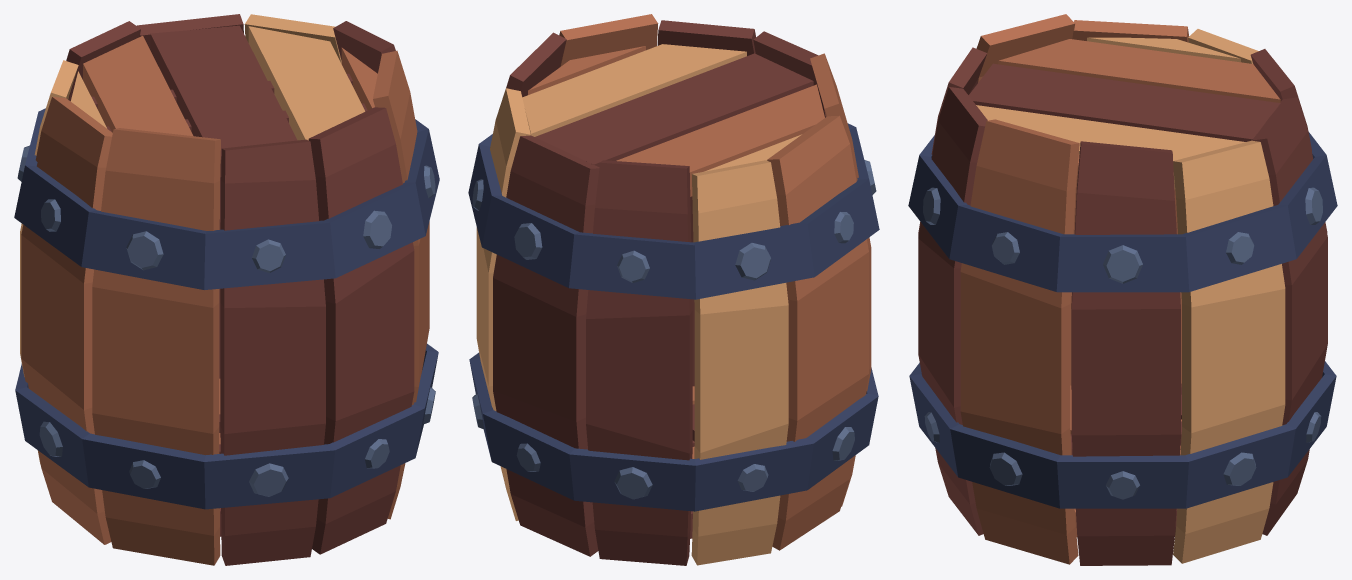
The model's file is Barrel 1_5b.fbx.
3 renders of one model, left to right at view 1: azimuth 30°, elevation 25°; view 2: azimuth 150°, elevation 25°; view 3: azimuth 270°, elevation 25°, orthographic. The views are drawn at different scales.
Visible parts, largest first — view 1: Barrel 1_5b.008, Barrel 1_5b.009, Barrel 1_5b, Barrel 1_5b.003, Barrel 1_5b.010, Barrel 1_5b.004, Barrel 1_5b.007, Barrel 1_5b.011, Barrel 1_5b.012, Barrel 1_5b.001, Barrel 1_5b.005, Barrel 1_5b.013 (+1 smaller); view 2: Barrel 1_5b.001, Barrel 1_5b, Barrel 1_5b.006, Barrel 1_5b.003, Barrel 1_5b.005, Barrel 1_5b.007, Barrel 1_5b.004, Barrel 1_5b.013, Barrel 1_5b.011, Barrel 1_5b.010, Barrel 1_5b.008, Barrel 1_5b.012 (+1 smaller); view 3: Barrel 1_5b.011, Barrel 1_5b.012, Barrel 1_5b.013, Barrel 1_5b, Barrel 1_5b.003, Barrel 1_5b.004, Barrel 1_5b.010, Barrel 1_5b.005, Barrel 1_5b.008, Barrel 1_5b.007, Barrel 1_5b.001, Barrel 1_5b.009 (+1 smaller).
Boxes of the visible parts, x1,y1,x2,y2 form: Barrel 1_5b.008: (92,128,220,565); Barrel 1_5b.009: (220,139,325,565); Barrel 1_5b: (70,25,377,185); Barrel 1_5b.003: (14,108,439,289); Barrel 1_5b.010: (308,107,414,554); Barrel 1_5b.004: (15,343,438,509); Barrel 1_5b.007: (21,96,112,544); Barrel 1_5b.011: (373,50,429,519); Barrel 1_5b.012: (333,21,395,73); Barrel 1_5b.001: (66,21,140,101); Barrel 1_5b.005: (137,14,243,378); Barrel 1_5b.013: (244,14,341,63); Barrel 1_5b.001: (586,160,692,565); Barrel 1_5b: (522,44,824,196); Barrel 1_5b.006: (691,160,788,565); Barrel 1_5b.003: (468,123,879,299); Barrel 1_5b.005: (493,135,599,556); Barrel 1_5b.007: (767,115,868,550); Barrel 1_5b.004: (469,352,878,511); Barrel 1_5b.013: (476,88,530,520); Barrel 1_5b.011: (559,14,658,66); Barrel 1_5b.010: (657,20,755,386); Barrel 1_5b.008: (810,53,871,506); Barrel 1_5b.012: (506,32,566,97); Barrel 1_5b.011: (960,119,1079,564); Barrel 1_5b.012: (1071,141,1180,565); Barrel 1_5b.013: (1173,140,1285,563); Barrel 1_5b: (968,37,1280,190); Barrel 1_5b.003: (908,132,1337,292); Barrel 1_5b.004: (909,361,1336,508); Barrel 1_5b.010: (918,87,987,535); Barrel 1_5b.005: (1252,97,1327,535); Barrel 1_5b.008: (976,14,1075,82); Barrel 1_5b.007: (1070,20,1189,386); Barrel 1_5b.001: (1250,49,1327,232); Barrel 1_5b.009: (918,47,987,236).
Bounding box in the file's own units: 104 × 117 × 108.
